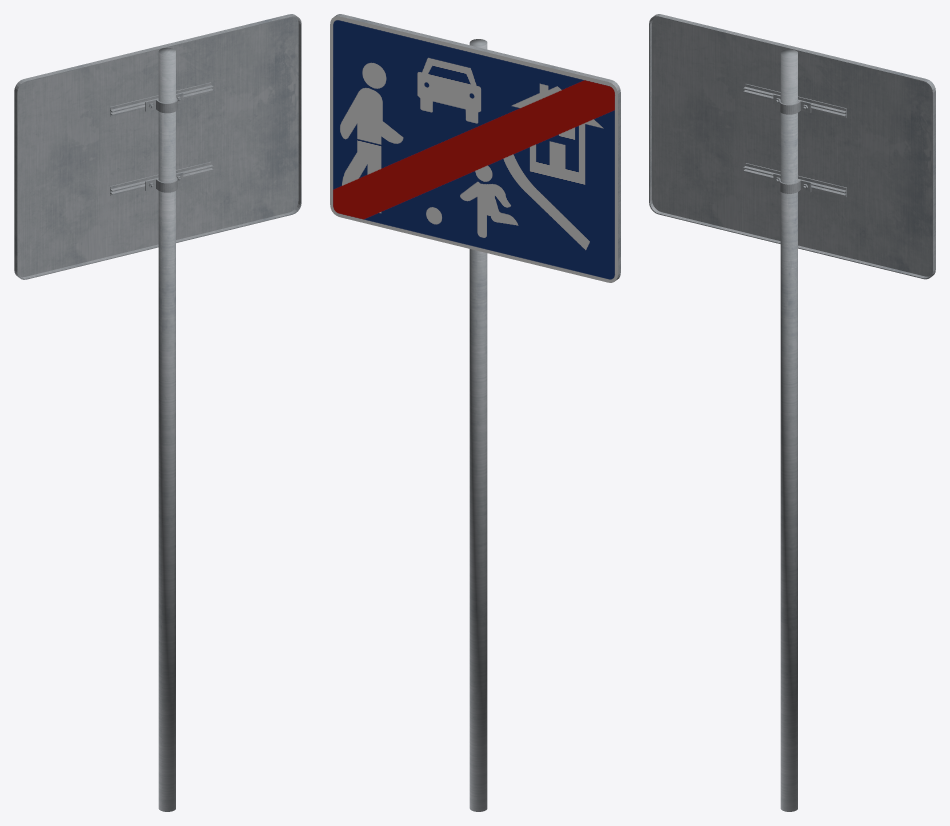
File: End_of_residential_zone.fbx
The picture shows the model from 3 angles, left to right: view 1: azimuth 30°, elevation 25°; view 2: azimuth 150°, elevation 25°; view 3: azimuth 330°, elevation 25°; orthographic projection.
Parts seen in each view (by area): view 1: End of residential zone; view 2: End of residential zone; view 3: End of residential zone.
Part boxes in pixels (bbox=[...]): End of residential zone: bbox=[14, 14, 301, 811]; End of residential zone: bbox=[330, 14, 620, 811]; End of residential zone: bbox=[649, 14, 935, 811].
Bounding box in the file's own units: 0.0875 × 1.12 × 2.86.
